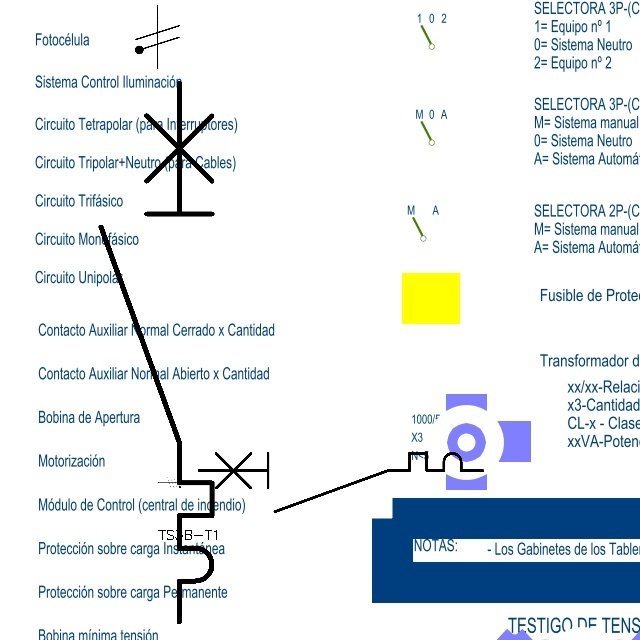interruptor_termomagnetico: (87, 69, 226, 636), (191, 446, 489, 519)
